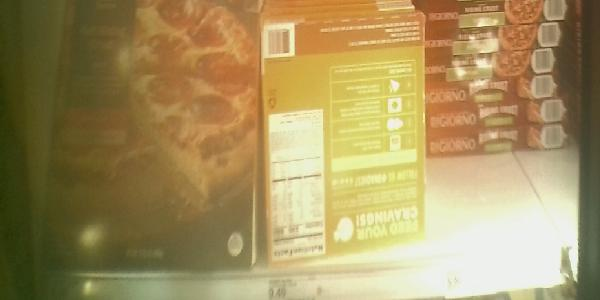pizza1: (48, 1, 256, 270), (261, 11, 430, 262)
pizza2: (423, 122, 571, 149), (423, 79, 565, 107), (423, 105, 573, 130), (425, 49, 564, 75), (428, 25, 568, 48), (431, 1, 576, 22)
